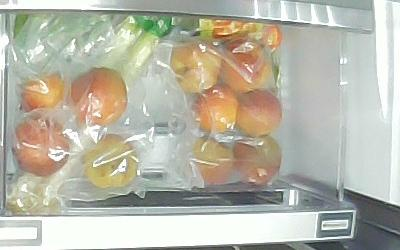prune_vinyl: (11, 111, 71, 176), (67, 66, 129, 126), (80, 133, 141, 188), (216, 38, 272, 96), (169, 39, 223, 94), (232, 133, 284, 184), (191, 81, 241, 131), (236, 89, 284, 137), (19, 72, 66, 116)
